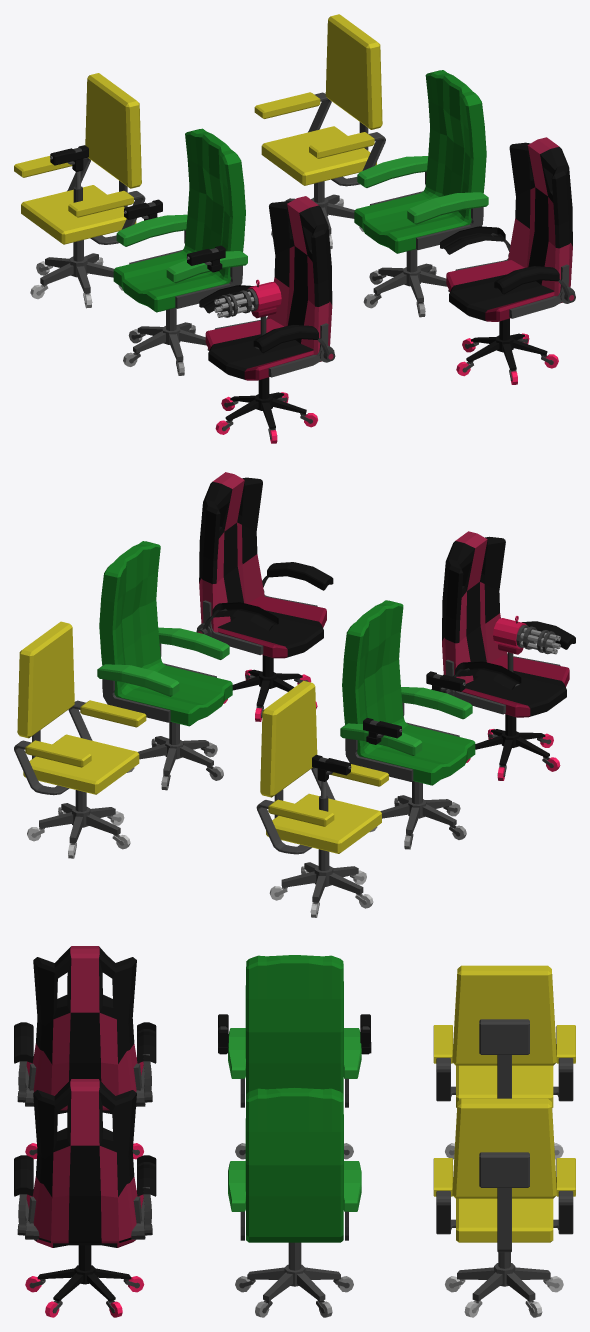
The model's file is cadeiras.fbx.
3 renders of one model, top to bottom at view 1: azimuth 30°, elevation 25°; view 2: azimuth 150°, elevation 25°; view 3: azimuth 270°, elevation 25°, orthographic. The views are drawn at different scales.
Visible parts, largest first — view 1: CadeiraGamer, CadeiraGamer.001, CadeiraLuxo, CadeiraLuxo.001, CadeiraEscritorio, CadeiraEscritorio.001; view 2: CadeiraGamer, CadeiraLuxo, CadeiraLuxo.001, CadeiraGamer.001, CadeiraEscritorio, CadeiraEscritorio.001; view 3: CadeiraGamer.001, CadeiraEscritorio.001, CadeiraLuxo.001, CadeiraEscritorio, CadeiraGamer, CadeiraLuxo.
Part boxes in pixels (left/top/right/bottom): CadeiraGamer: left=199, top=196, right=335, bottom=443; CadeiraGamer.001: left=440, top=137, right=575, bottom=384; CadeiraLuxo: left=113, top=128, right=247, bottom=375; CadeiraLuxo.001: left=354, top=70, right=488, bottom=317; CadeiraEscritorio: left=14, top=73, right=145, bottom=308; CadeiraEscritorio.001: left=254, top=14, right=385, bottom=249; CadeiraGamer: left=442, top=531, right=575, bottom=780; CadeiraLuxo: left=340, top=600, right=475, bottom=849; CadeiraLuxo.001: left=97, top=541, right=232, bottom=790; CadeiraGamer.001: left=196, top=472, right=333, bottom=721; CadeiraEscritorio: left=256, top=680, right=388, bottom=917; CadeiraEscritorio.001: left=14, top=621, right=146, bottom=858; CadeiraGamer.001: left=14, top=1079, right=156, bottom=1317; CadeiraEscritorio.001: left=433, top=1098, right=575, bottom=1317; CadeiraLuxo.001: left=228, top=1088, right=361, bottom=1317; CadeiraEscritorio: left=433, top=965, right=575, bottom=1159; CadeiraGamer: left=14, top=946, right=156, bottom=1159; CadeiraLuxo: left=218, top=955, right=371, bottom=1159.
Size of the model in its own units: 433 by 251 by 536.
